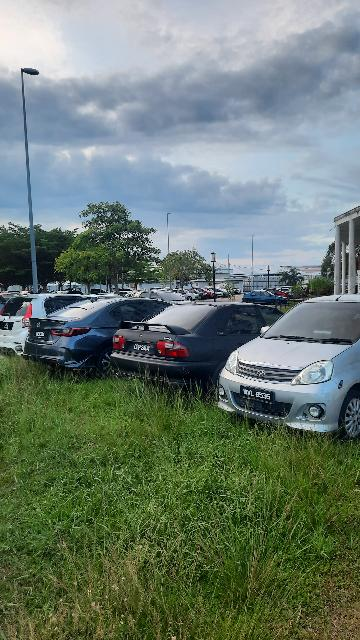License_Plate: (239, 384, 279, 407), (126, 340, 157, 358), (33, 329, 51, 342), (2, 322, 16, 333)
car: (217, 294, 360, 445), (113, 299, 302, 401), (26, 295, 181, 381)
